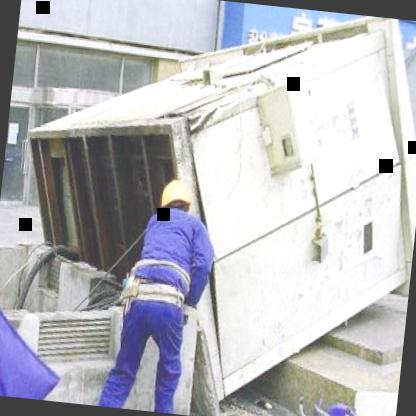helmet: (156, 178, 194, 221)
